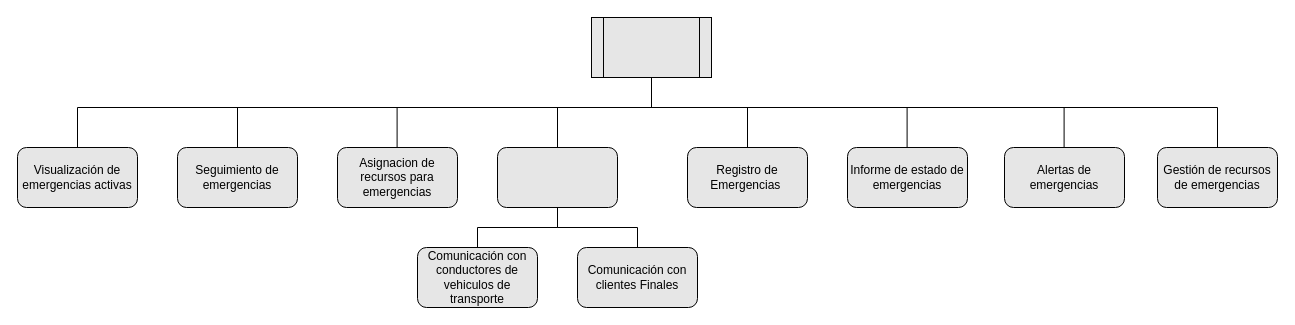
This 1295x325 diagram has some shape labels left out. Here are the shapes that lost their labels. From the top down, the centre of each, then its label:
the point at 651,47: Gestión de Emergencias
the point at 557,177: Comunicación con Servicios Externos
